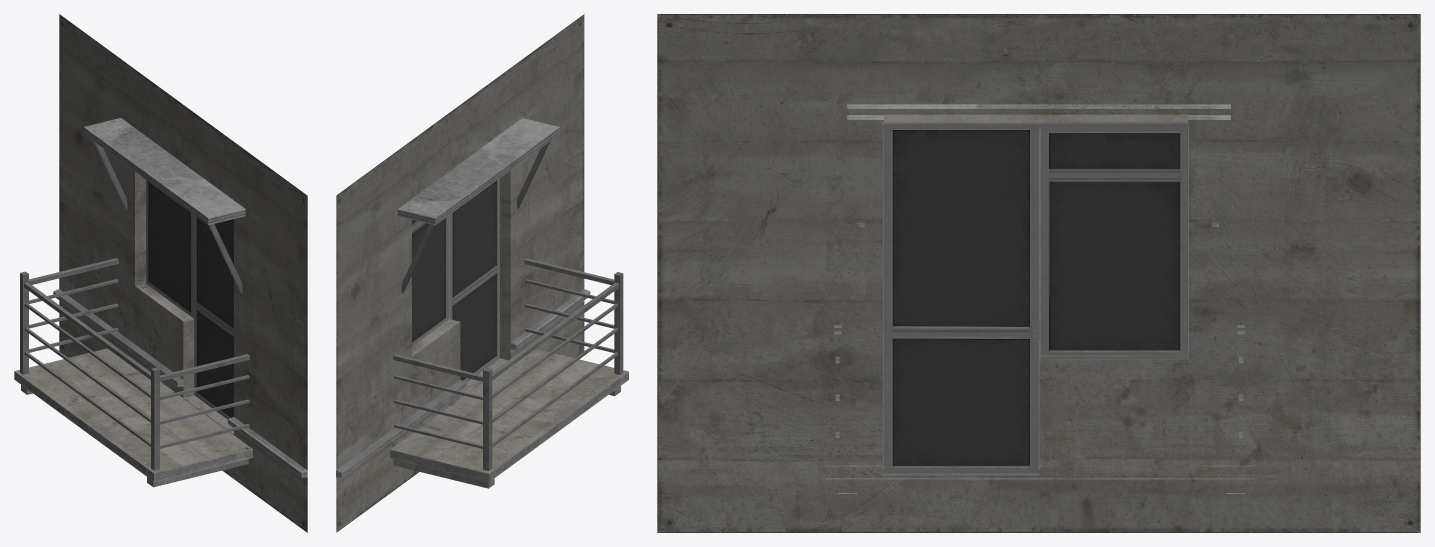
File: CP_Windows_A_4x3m_Balcony_01.fbx
The picture shows the model from 3 angles, left to right: view 1: azimuth 30°, elevation 25°; view 2: azimuth 150°, elevation 25°; view 3: azimuth 270°, elevation 25°; orthographic projection. The views are drawn at different scales.
Parts seen in each view (by area): view 1: CP_Windows_A_4x3m_Balcony_01; view 2: CP_Windows_A_4x3m_Balcony_01; view 3: CP_Windows_A_4x3m_Balcony_01.
Boxes of the visible parts, bbox=[...] form: CP_Windows_A_4x3m_Balcony_01: bbox=[14, 14, 307, 532]; CP_Windows_A_4x3m_Balcony_01: bbox=[336, 14, 628, 532]; CP_Windows_A_4x3m_Balcony_01: bbox=[657, 14, 1420, 532].
Size of the model in its own units: 103 by 300 by 400.
